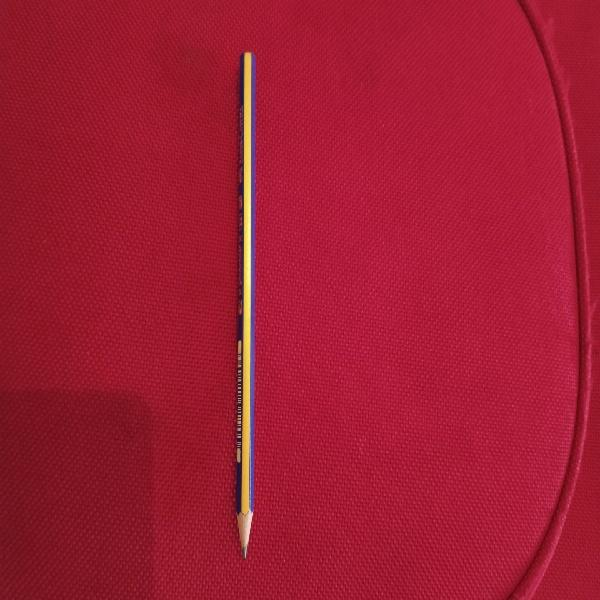pencil: (235, 52, 256, 558)
